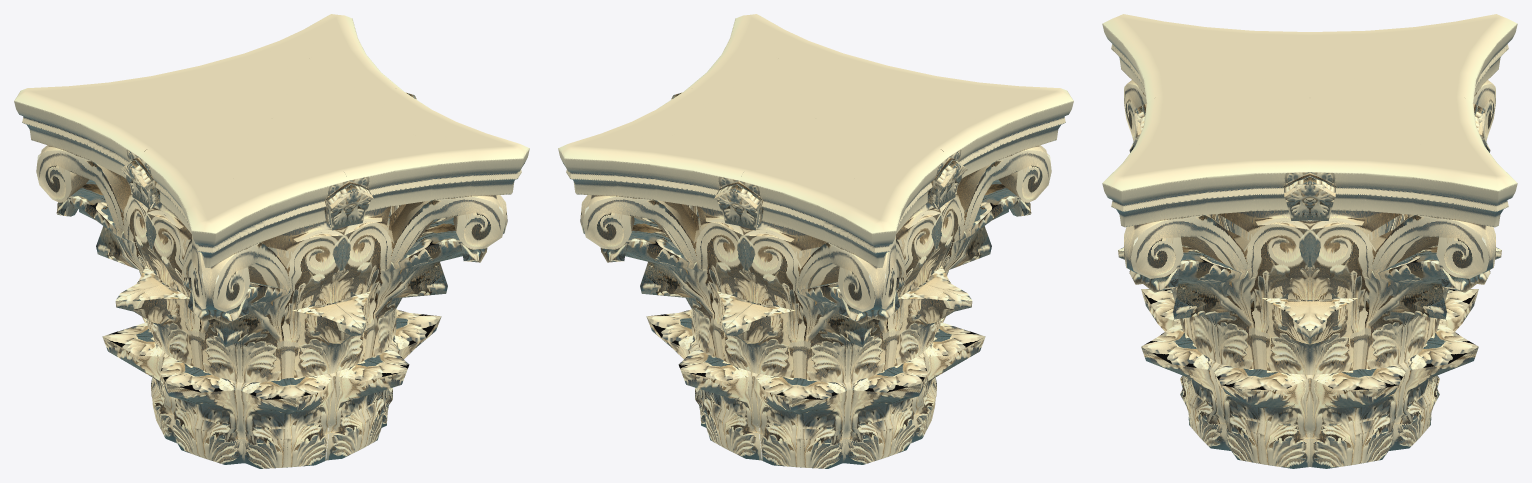
File: corinthian-capital.glb
The picture shows the model from 3 angles, left to right: view 1: azimuth 30°, elevation 25°; view 2: azimuth 150°, elevation 25°; view 3: azimuth 270°, elevation 25°; orthographic projection. The views are drawn at different scales.
Parts seen in each view (by area): view 1: Curve.001; view 2: Curve.001; view 3: Curve.001.
Boxes of the visible parts, x1=… form: Curve.001: x1=14, y1=14, x2=529, y2=468; Curve.001: x1=558, y1=14, x2=1073, y2=468; Curve.001: x1=1102, y1=14, x2=1517, y2=468.
Size of the model in its own units: 0.6998 by 0.5958 by 0.6998.
Materials: 1 (1 with a texture image).
